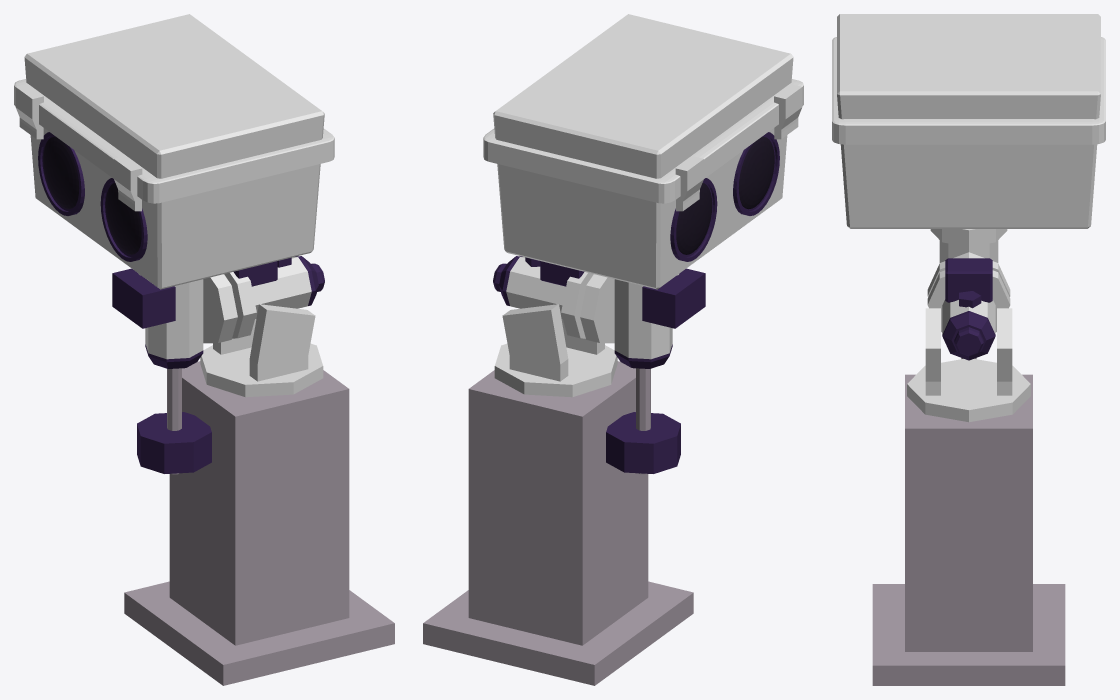
Rendered from robot.glb.
3 views of the same model, side by side, from view 1: azimuth 30°, elevation 25°; view 2: azimuth 150°, elevation 25°; view 3: azimuth 270°, elevation 25° (orthographic). The views are drawn at different scales.
Parts seen in each view (by area): view 1: Cube.007, Cube.006, Cylinder, Cylinder.003, Cube.009, Cylinder.002, Sphere, Cube.010, Cylinder.011; view 2: Cube.007, Cube.006, Cylinder, Cylinder.003, Cube.009, Cylinder.002, Sphere, Cube.010, Cylinder.011; view 3: Cube.006, Cube.007, Cube.009, Cylinder.003, Cylinder.002, Cylinder, Cube.004.
Part boxes in pixels (x1=…): Cube.007: x1=124, y1=361, x2=394, y2=685; Cube.006: x1=24, y1=14, x2=324, y2=289; Cylinder: x1=112, y1=268, x2=237, y2=474; Cylinder.003: x1=200, y1=304, x2=323, y2=397; Cube.009: x1=14, y1=79, x2=334, y2=203; Cylinder.002: x1=224, y1=256, x2=324, y2=338; Sphere: x1=43, y1=136, x2=141, y2=254; Cube.010: x1=15, y1=84, x2=142, y2=211; Cylinder.011: x1=38, y1=132, x2=147, y2=261; Cube.007: x1=423, y1=361, x2=693, y2=685; Cube.006: x1=493, y1=14, x2=793, y2=289; Cylinder: x1=580, y1=268, x2=705, y2=474; Cylinder.003: x1=494, y1=304, x2=617, y2=397; Cube.009: x1=483, y1=79, x2=803, y2=203; Cylinder.002: x1=493, y1=256, x2=593, y2=338; Sphere: x1=676, y1=136, x2=774, y2=254; Cube.010: x1=675, y1=84, x2=802, y2=211; Cylinder.011: x1=670, y1=132, x2=779, y2=261; Cube.006: x1=837, y1=14, x2=1100, y2=228; Cube.007: x1=872, y1=374, x2=1065, y2=685; Cube.009: x1=832, y1=37, x2=1105, y2=144; Cylinder.003: x1=907, y1=308, x2=1030, y2=422; Cylinder.002: x1=927, y1=258, x2=1010, y2=360; Cylinder: x1=927, y1=240, x2=1010, y2=358; Cube.004: x1=930, y1=229, x2=1007, y2=246.
Bounding box in the file's own units: 2.92 × 5.81 × 2.61.
